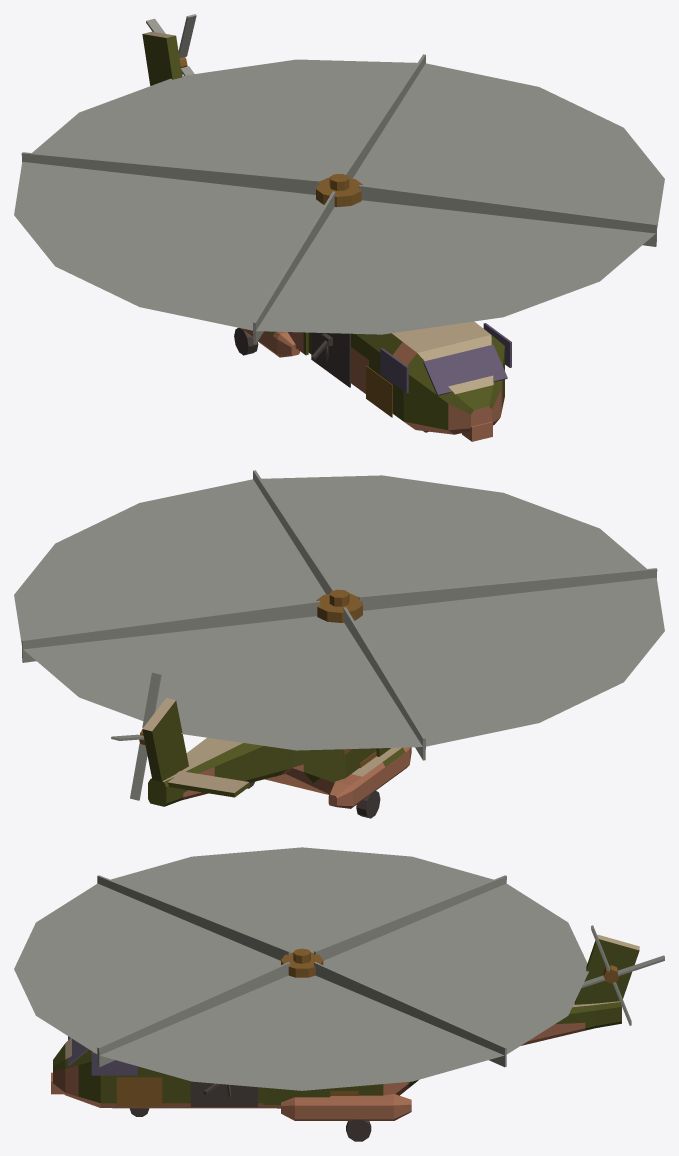
File: SM_NH90_v3_Embarrado_LOD0.fbx
3 renders of one model, top to bottom at view 1: azimuth 30°, elevation 25°; view 2: azimuth 150°, elevation 25°; view 3: azimuth 270°, elevation 25°, orthographic. The views are drawn at different scales.
Parts seen in each view (by area): view 1: DiscoRotor, SM_bloques.nh90_v3_LOD0, RotorPrincipal, RotorCola; view 2: DiscoRotor, SM_bloques.nh90_v3_LOD0, RotorPrincipal, RotorCola; view 3: DiscoRotor, SM_bloques.nh90_v3_LOD0, RotorPrincipal, RotorCola.
Part boxes in pixels (x1,y1,x2,y2): DiscoRotor: (14, 59, 664, 334); SM_bloques.nh90_v3_LOD0: (142, 31, 511, 441); RotorPrincipal: (21, 54, 657, 344); RotorCola: (146, 14, 196, 75); DiscoRotor: (14, 475, 664, 750); SM_bloques.nh90_v3_LOD0: (142, 698, 411, 818); RotorPrincipal: (21, 470, 657, 760); RotorCola: (111, 672, 161, 800); DiscoRotor: (14, 847, 588, 1090); SM_bloques.nh90_v3_LOD0: (51, 934, 639, 1141); RotorPrincipal: (97, 875, 506, 1067); RotorCola: (581, 925, 664, 1025).
Bounding box in the file's own units: 16.3 × 6.05 × 18.41.
